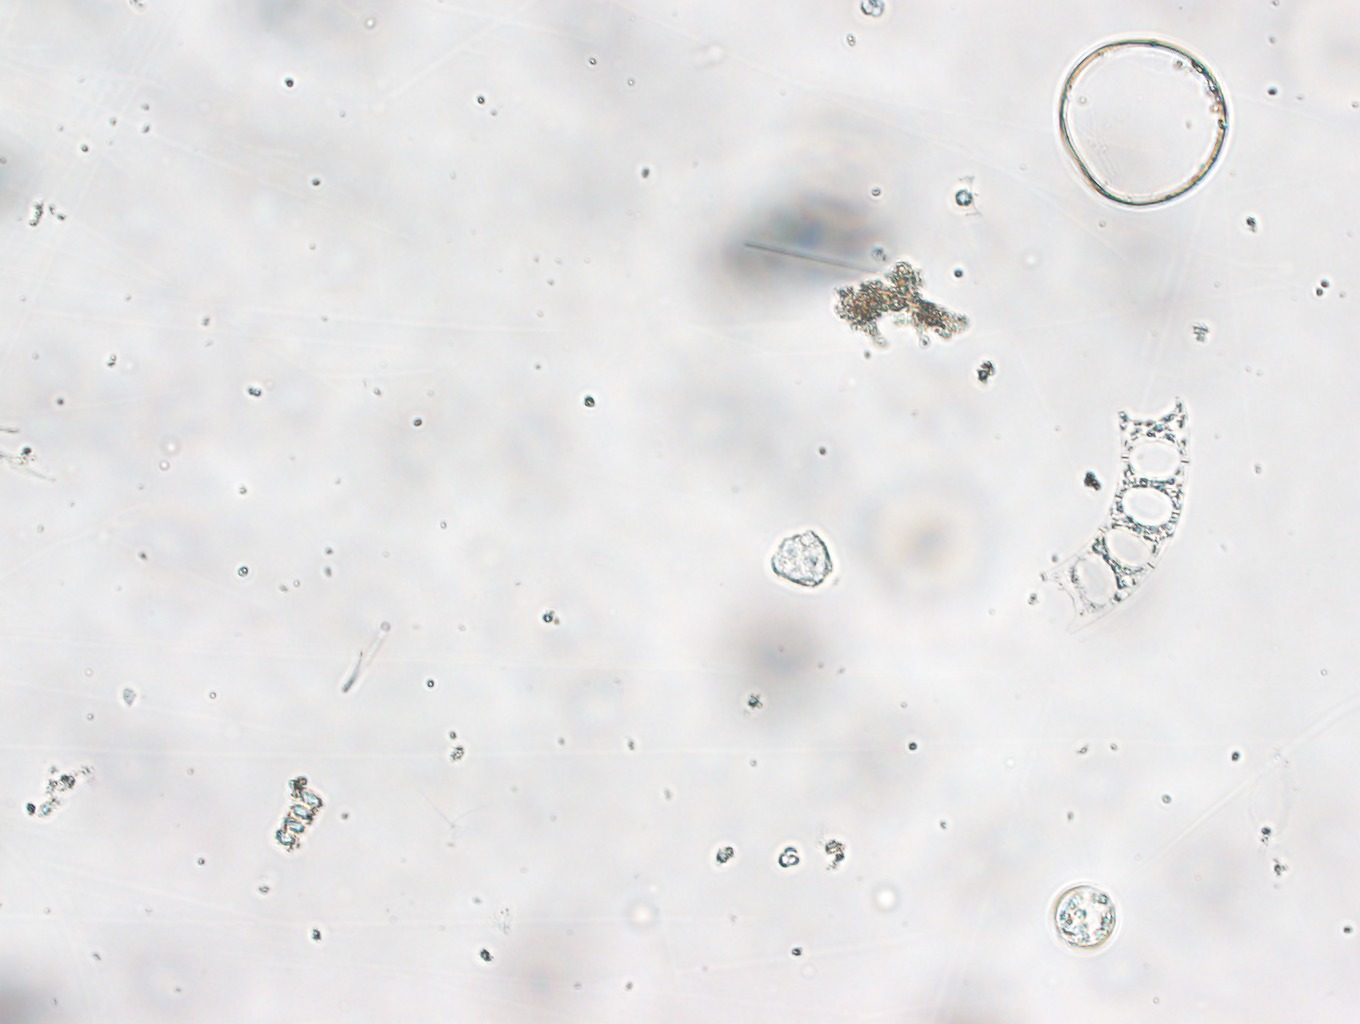coscinodiscus: (1029, 862, 1129, 966)
eucampia: (1036, 398, 1200, 643)
